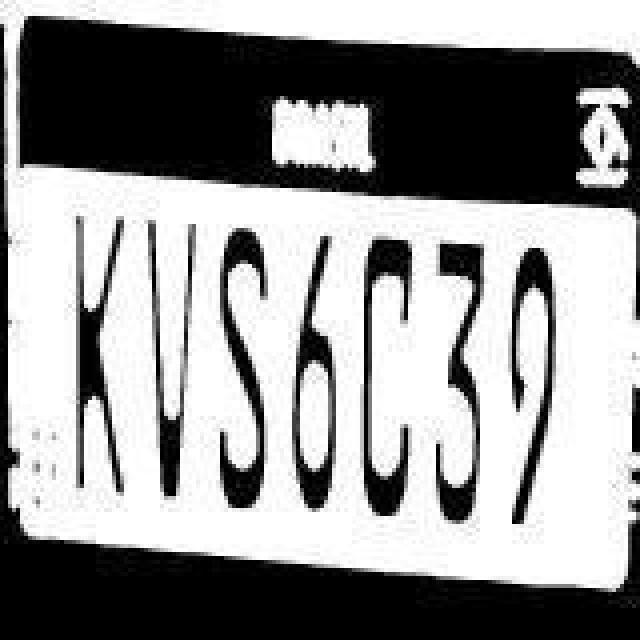3: (432, 220, 496, 524)
6: (292, 220, 348, 516)
9: (496, 218, 560, 534)
C: (350, 210, 426, 510)
K: (68, 212, 140, 508)
S: (212, 214, 284, 514)
V: (140, 216, 204, 504)
